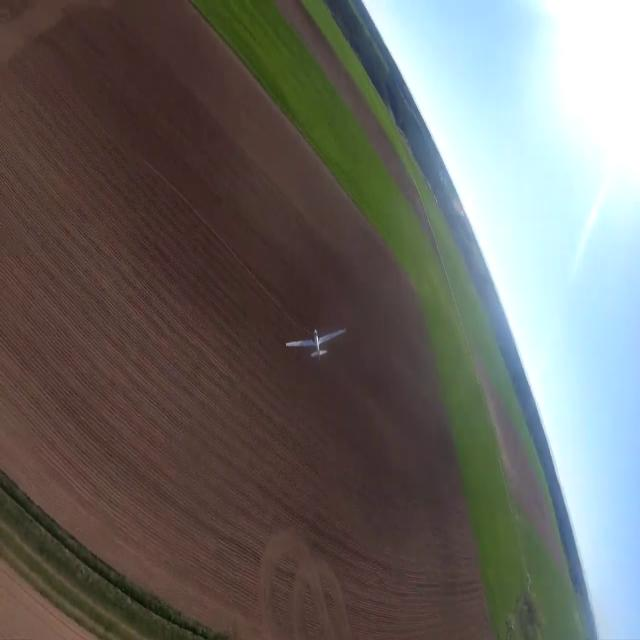iha: (315, 325, 318, 359)
